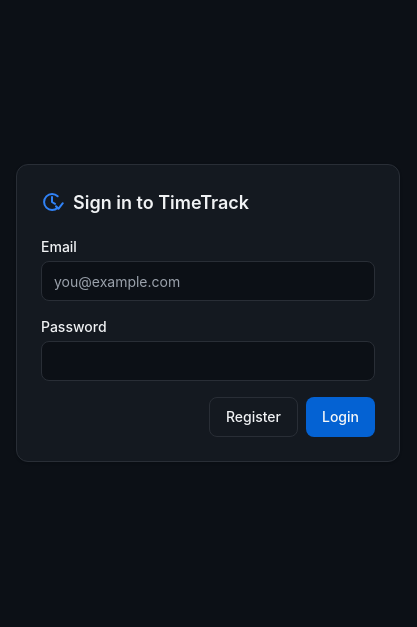
Test case: App shell › navigates to registration view when Register is clicked
Expected: the heading "Sign in to TimeTrack" is shown, x1=73 y1=189 x2=249 y2=217
Click the button "Register" at (253,417), box x1=209 y1=397 x2=298 y2=437
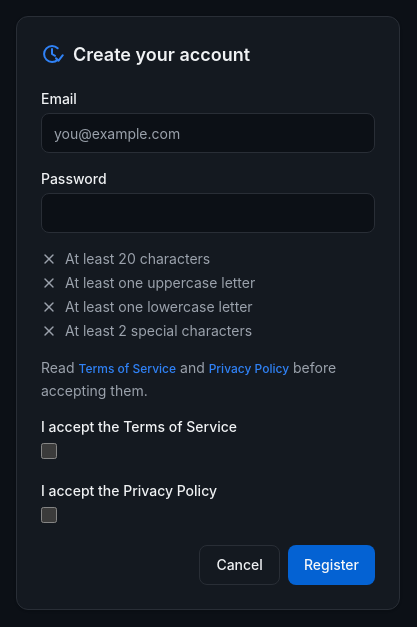
Expected: the heading "Create your account" is shown, x1=73 y1=41 x2=250 y2=69
